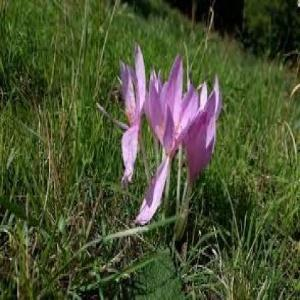Saffron: (183, 89, 227, 197), (149, 66, 191, 166), (117, 43, 144, 181)
